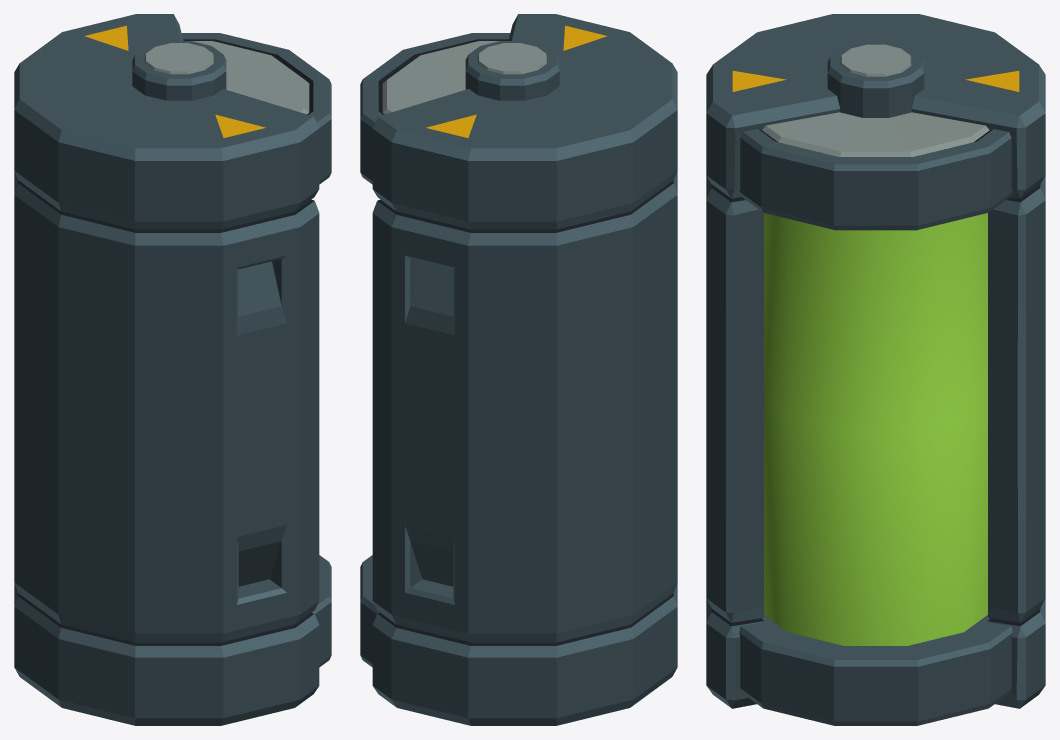
File: Battery.fbx
3 views of the same model, side by side, from view 1: azimuth 30°, elevation 25°; view 2: azimuth 150°, elevation 25°; view 3: azimuth 270°, elevation 25° (orthographic). The views are drawn at different scales.
Visible parts, largest first — view 1: Battery_Hull; view 2: Battery_Hull; view 3: Battery_Hull, Battery_GreenPart.
Part boxes in pixels (x1,y1,x2,y2): Battery_Hull: [14, 14, 331, 725]; Battery_Hull: [360, 14, 677, 725]; Battery_Hull: [706, 14, 1045, 725]; Battery_GreenPart: [764, 213, 987, 645].
Bounding box in the file's own units: 29.97 × 65.08 × 31.18.
